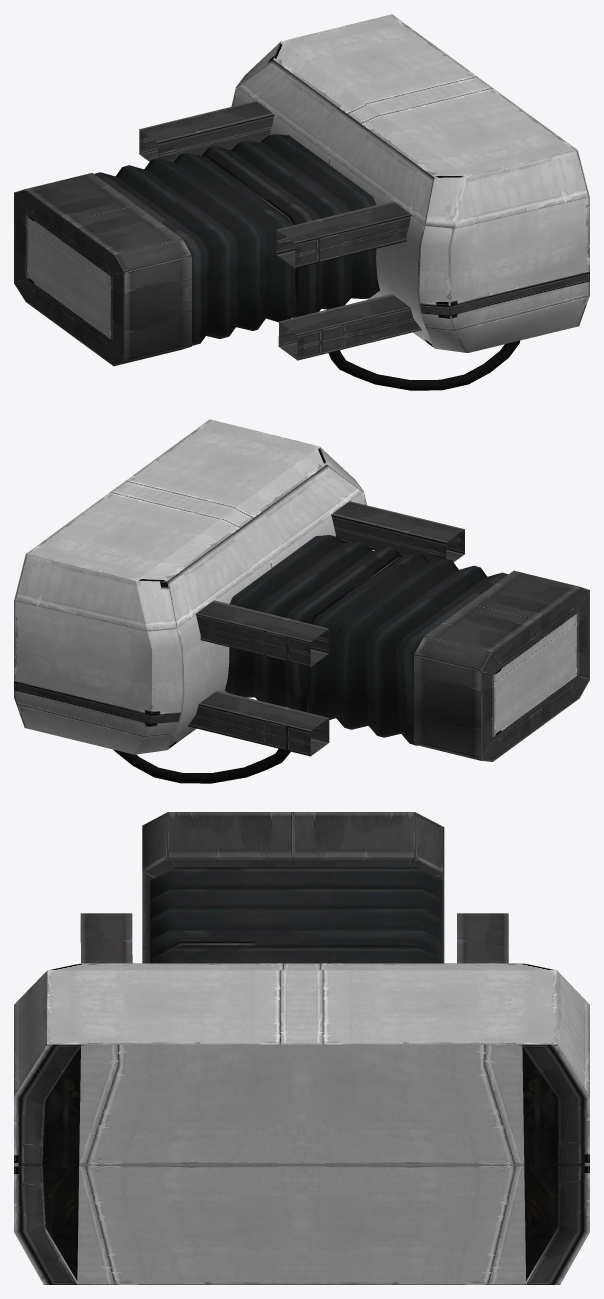
The model's file is DockingArm_02_part.FBX.
3 renders of one model, top to bottom at view 1: azimuth 30°, elevation 25°; view 2: azimuth 150°, elevation 25°; view 3: azimuth 270°, elevation 25°, orthographic. The views are drawn at different scales.
Parts seen in each view (by area): view 1: DockingArm_02_part; view 2: DockingArm_02_part; view 3: DockingArm_02_part.
Part boxes in pixels (<box>): DockingArm_02_part: <box>14,14,589,390</box>; DockingArm_02_part: <box>14,419,589,783</box>; DockingArm_02_part: <box>14,812,589,1284</box>.
Size of the model in its own units: 11.26 by 5.41 by 9.76.
